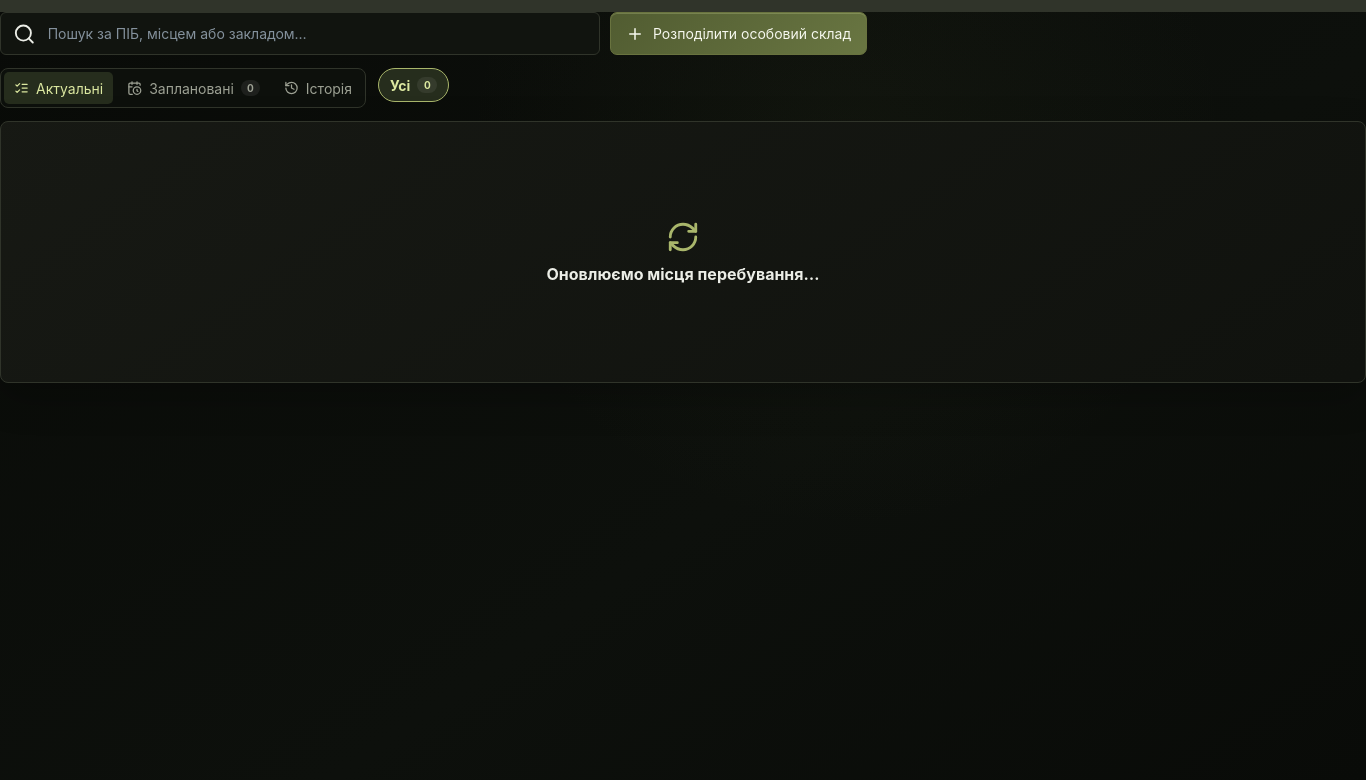
Test: PersonnelControl › loads long personnel history in bounded pages
Click the button "Історія". click: (318, 88)
box: x1=274 y1=72 x2=362 y2=104
(page scrolled)
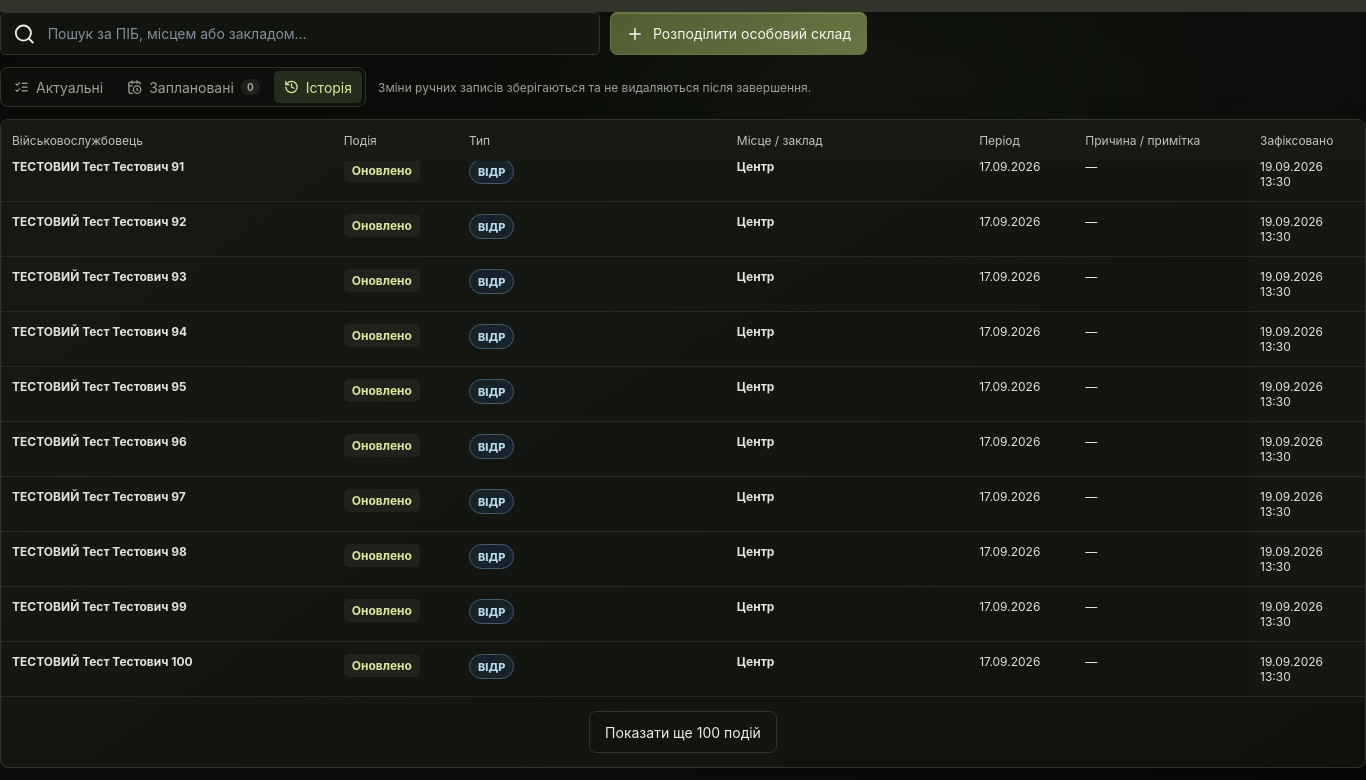
Click the button "Показати ще 100 подій". click: (683, 732)
box: x1=589 y1=711 x2=777 y2=753
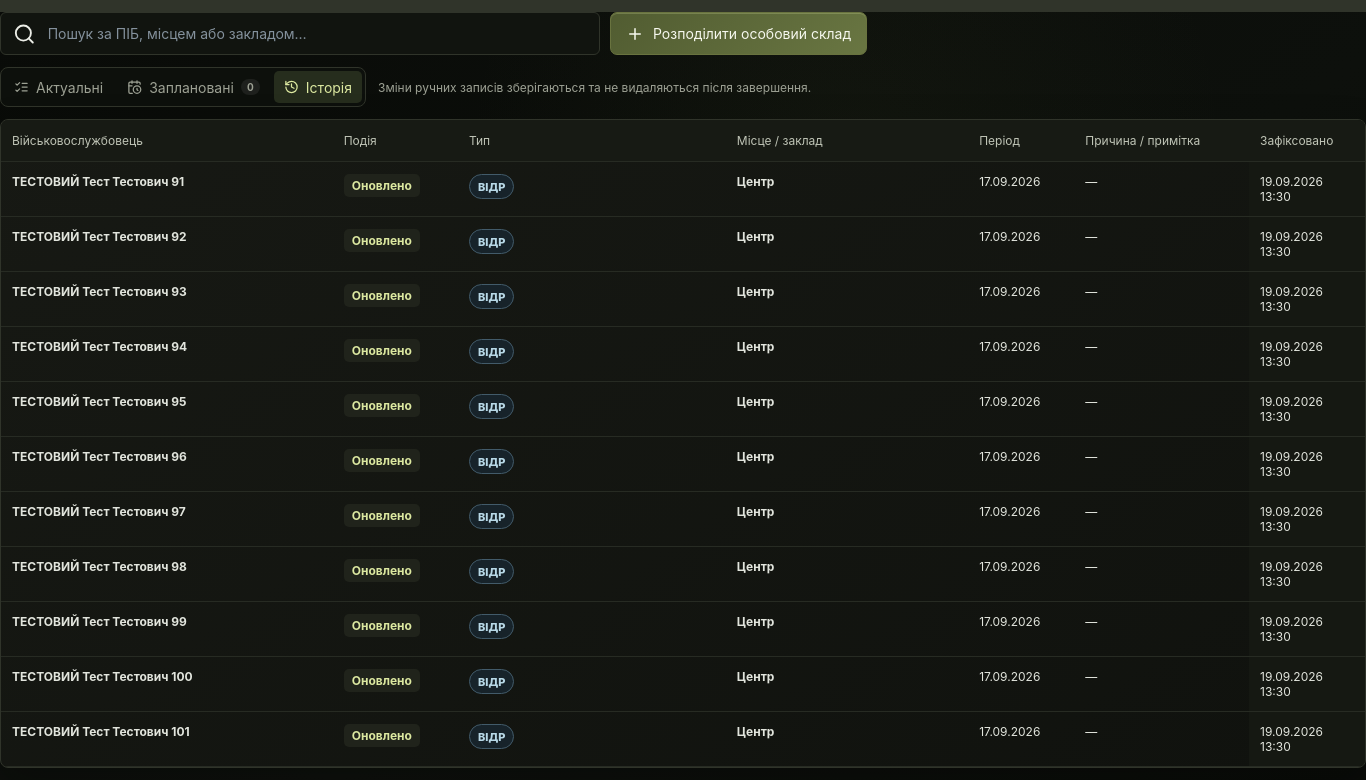
Result: the button "Показати ще 100 подій" is gone
